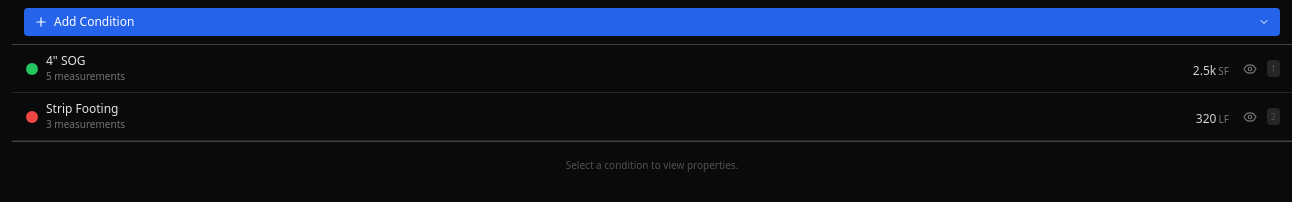
Test case: ConditionPanel › shows context menu on right-click
Right-click the button with test id "condition-row-0".
right_click(66, 60)  # box [12,45,1291,93]
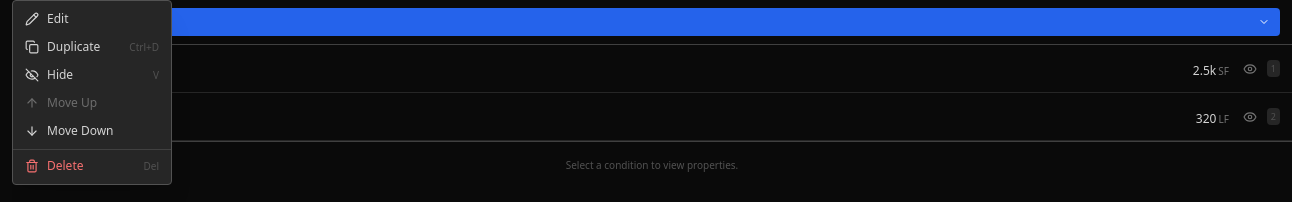
Check: the element with test id "condition-context-menu" is shown, box [12,0,172,185]
